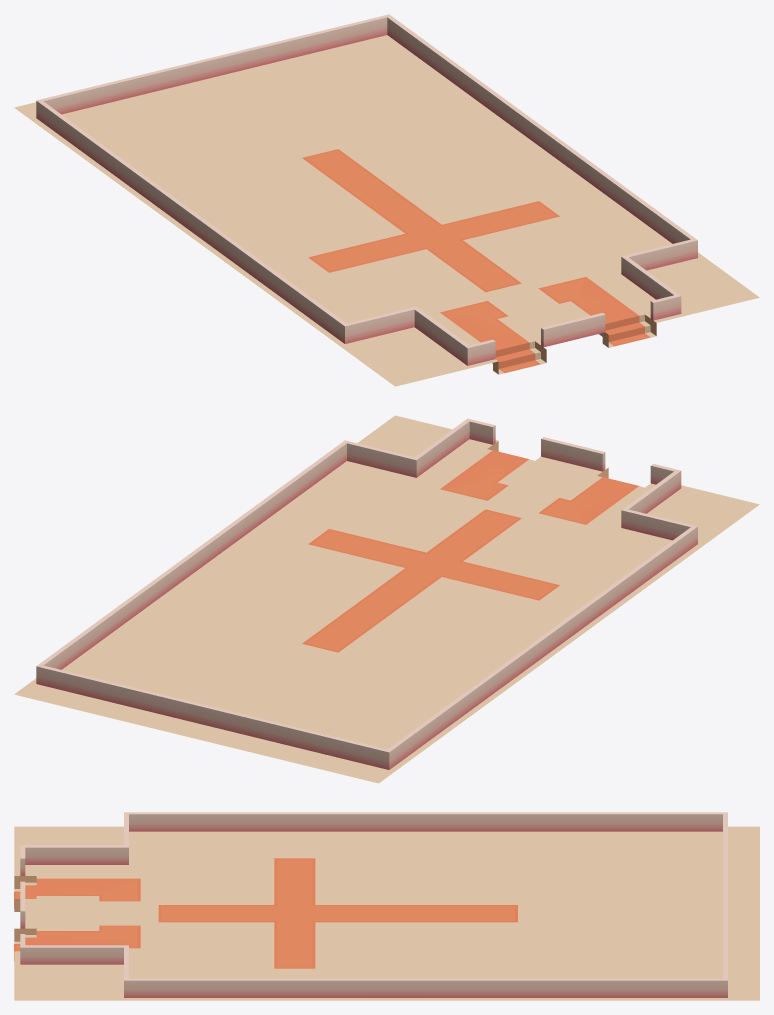
File: Casino_base_01.fbx
The picture shows the model from 3 angles, top to bottom: view 1: azimuth 30°, elevation 25°; view 2: azimuth 150°, elevation 25°; view 3: azimuth 270°, elevation 25°; orthographic projection. The views are drawn at different scales.
Visible parts, largest first — view 1: Plane, Plane.002, Plane.001; view 2: Plane, Plane.002, Plane.001; view 3: Plane, Plane.002, Plane.001.
Part boxes in pixels (x1,y1,x2,y2): Plane: (14,35,759,386); Plane.002: (36,14,697,365); Plane.001: (302,149,650,373); Plane: (14,415,759,783); Plane.002: (36,418,697,769); Plane.001: (302,450,638,652); Plane: (14,826,759,1000); Plane.002: (20,812,727,997); Plane.001: (14,858,517,968).
Size of the model in its own units: 20.01 by 36.24 by 1.63.
